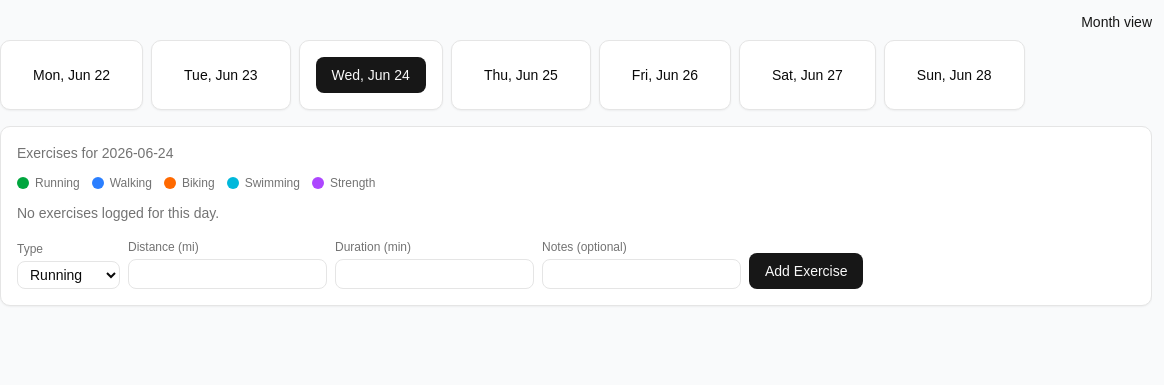
Test: ExerciseCalendarPage › submitting a walking exercise posts distance and no sets/reps
This screenshot has width=1164, height=385.
Expected: the text "No exercises logged for this day." is shown, [17,205,219,221]
Select "Walking" in the dropdown labelled "Type" at (68, 275), box [17,261,120,289]
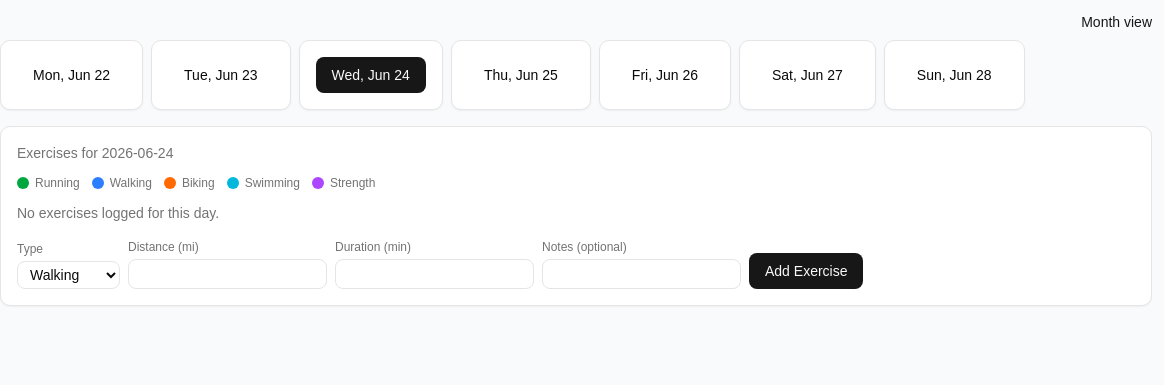
Type "2" into the number field labelled "Distance (mi)" at (228, 274), box [128,259,327,289]
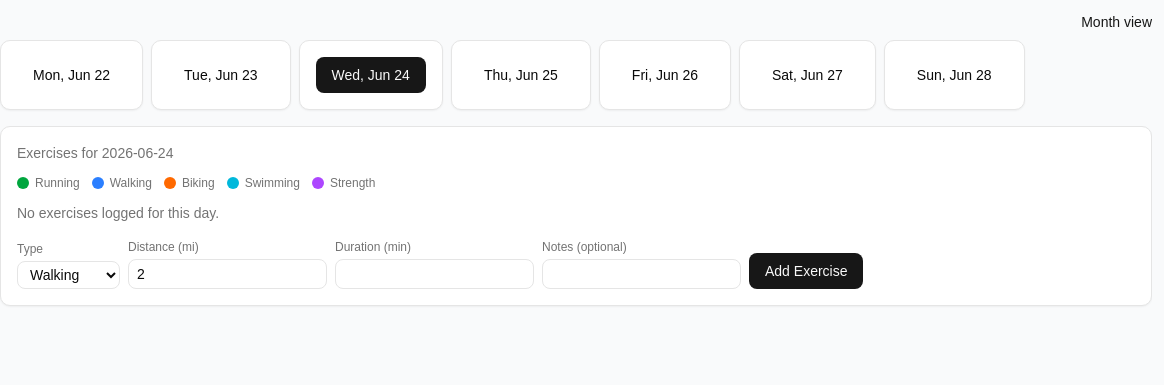
Type "30" into the number field labelled "Duration (min)" at (434, 274), box [335,259,534,289]
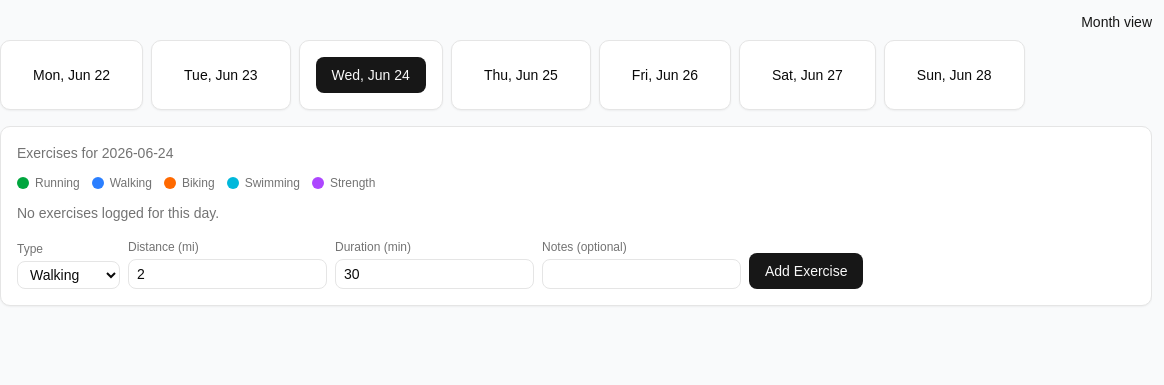
Click the button "Add Exercise" at (806, 271), box [749,253,864,289]
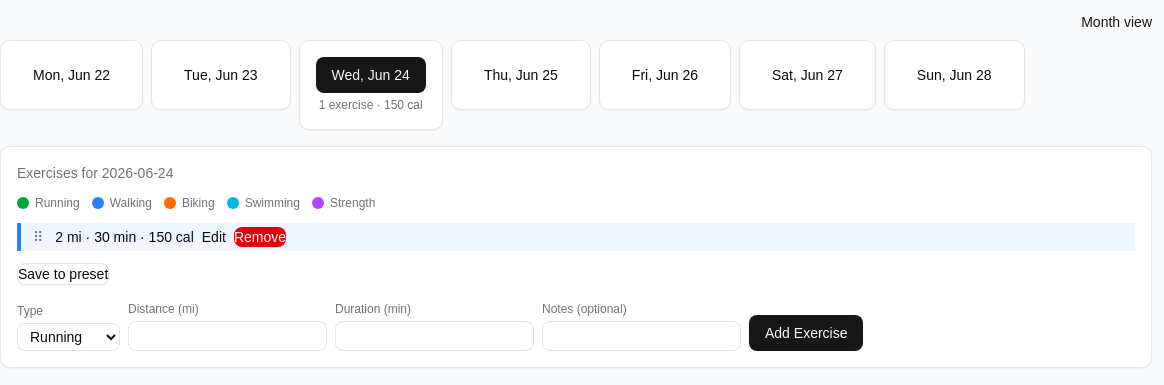
Expected: the text "2 mi · 30 min · 150 cal" is shown, [55,227,194,247]
